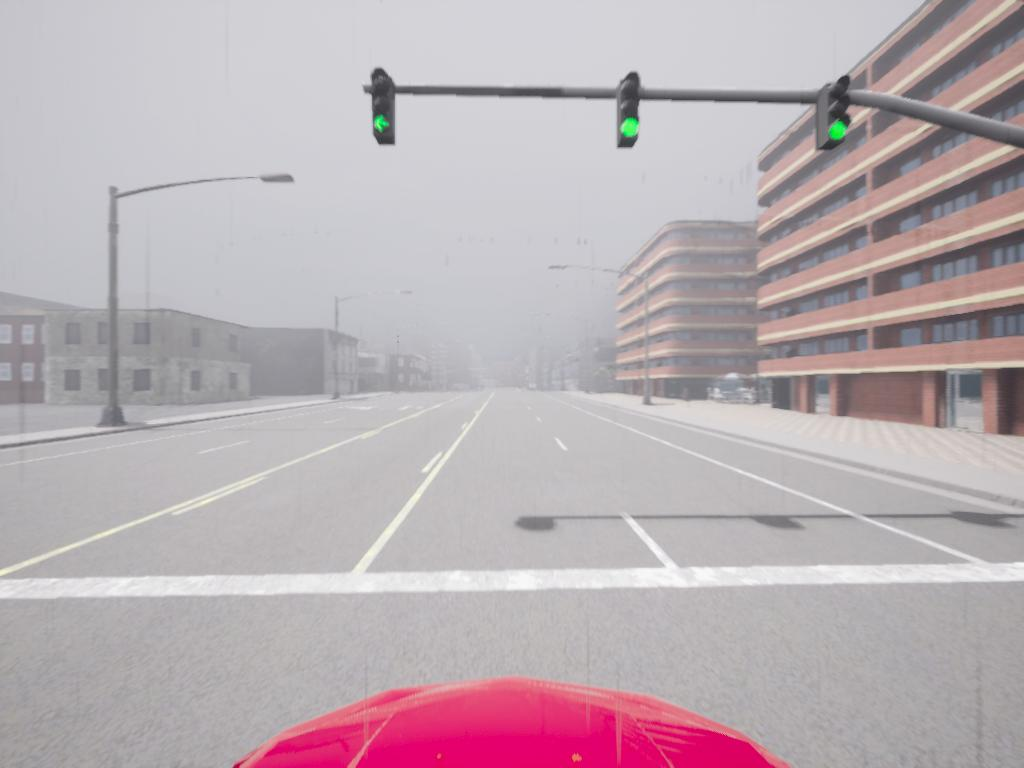traffic_light: (815, 81, 855, 153), (367, 67, 398, 146), (619, 72, 645, 150)
